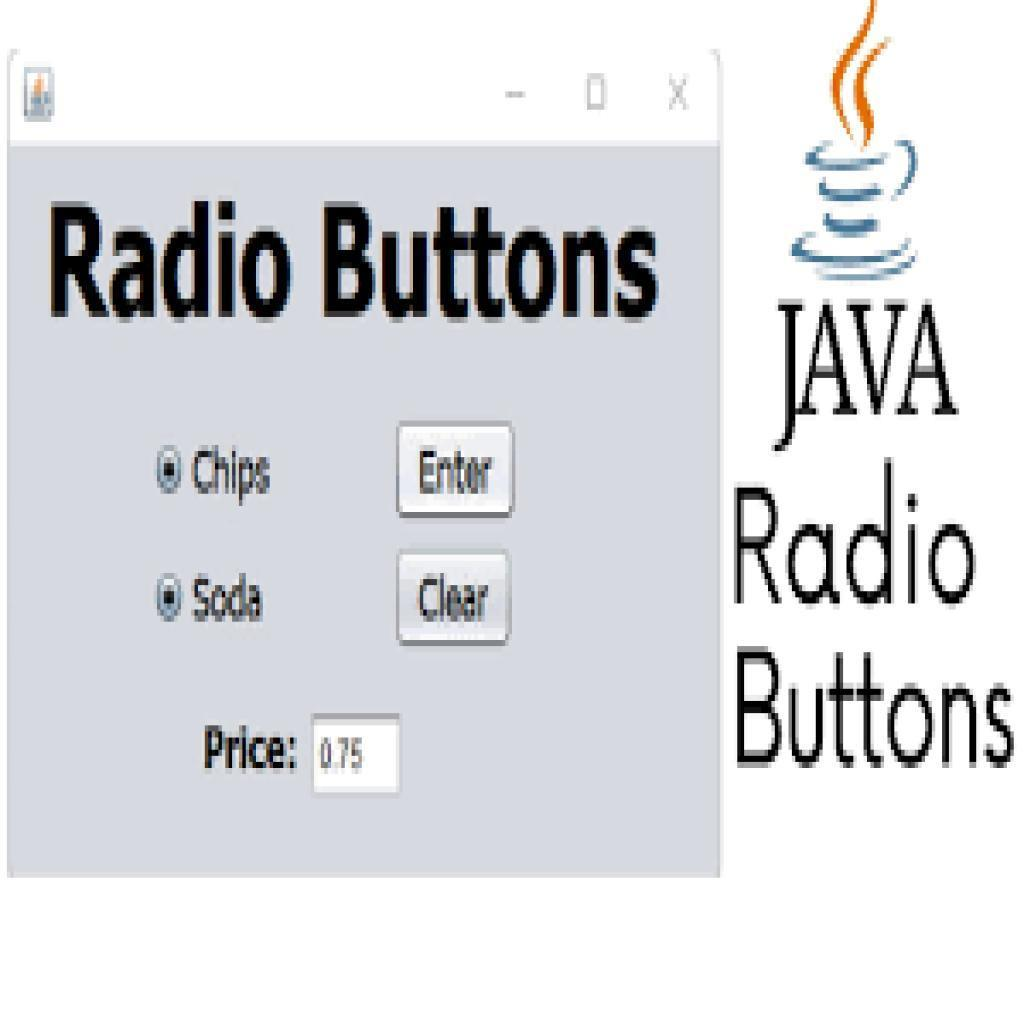button: (391, 424, 518, 520), (395, 549, 515, 645)
input: (312, 719, 399, 796)
radio: (154, 443, 193, 512), (151, 569, 187, 624)
